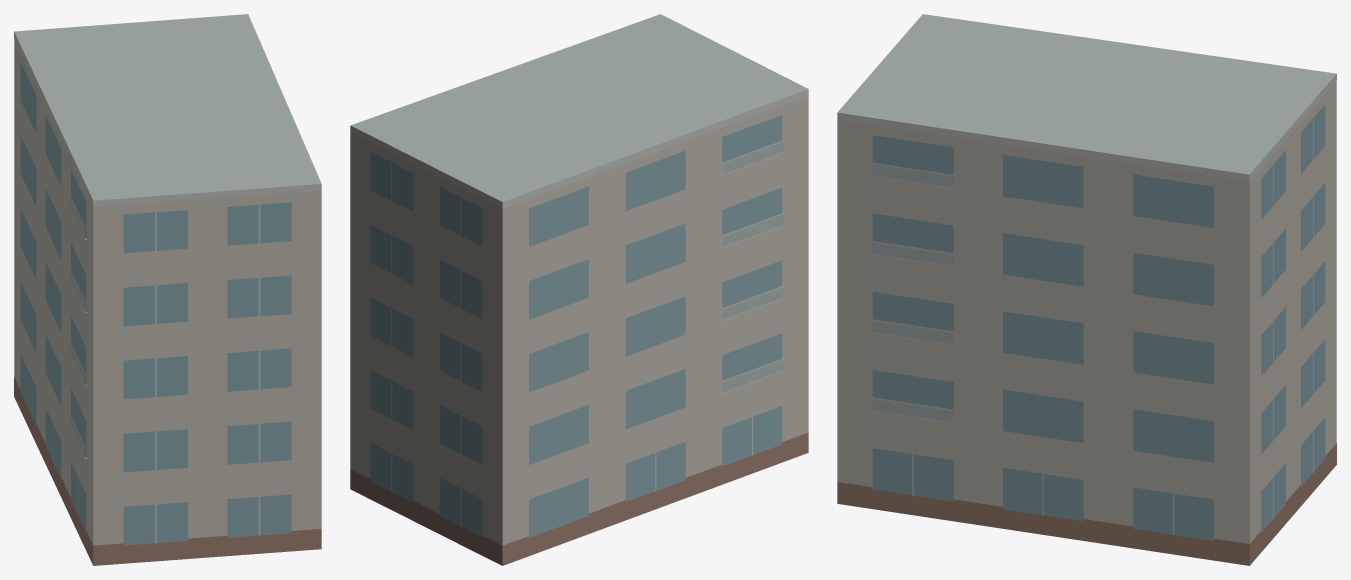
Rendered from survey-upis-33041055.glb.
3 views of the same model, side by side, from view 1: azimuth 30°, elevation 25°; view 2: azimuth 150°, elevation 25°; view 3: azimuth 270°, elevation 25° (orthographic). The views are drawn at different scales.
Parts seen in each view (by area): view 1: survey-upis-33041055.tmp; view 2: survey-upis-33041055.tmp; view 3: survey-upis-33041055.tmp.
Part boxes in pixels (left/top/right/bottom): survey-upis-33041055.tmp: left=14, top=14, right=321, bottom=565; survey-upis-33041055.tmp: left=350, top=14, right=808, bottom=565; survey-upis-33041055.tmp: left=837, top=14, right=1336, bottom=565.
Bounding box in the file's own units: 11.64 × 13.2 × 15.28.
